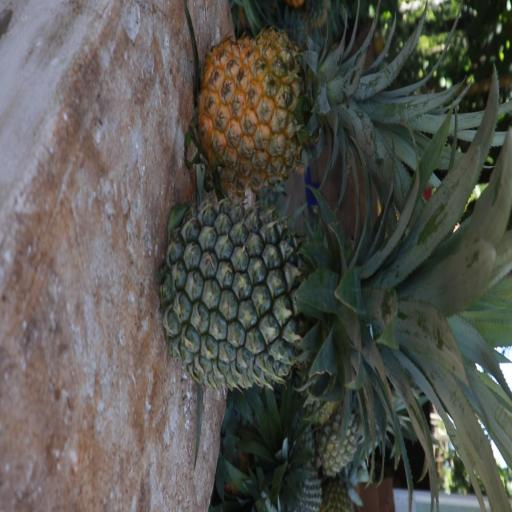Pineapple - v8 v1: (200, 36, 425, 176)
